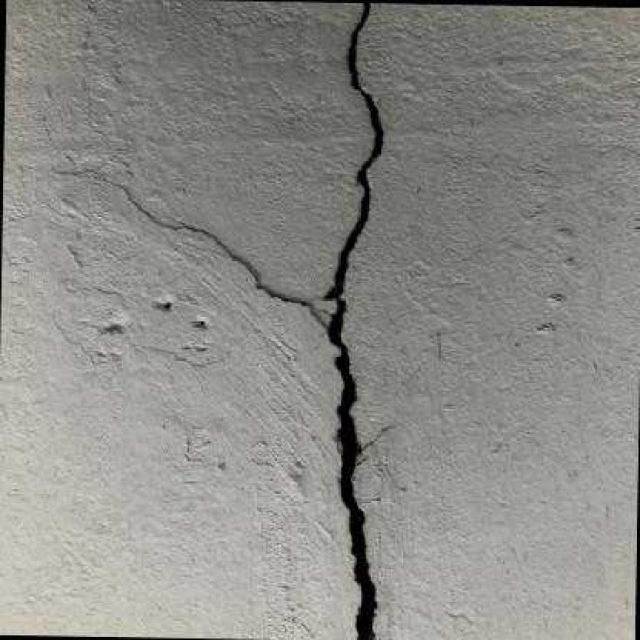D00: (109, 1, 384, 640)
